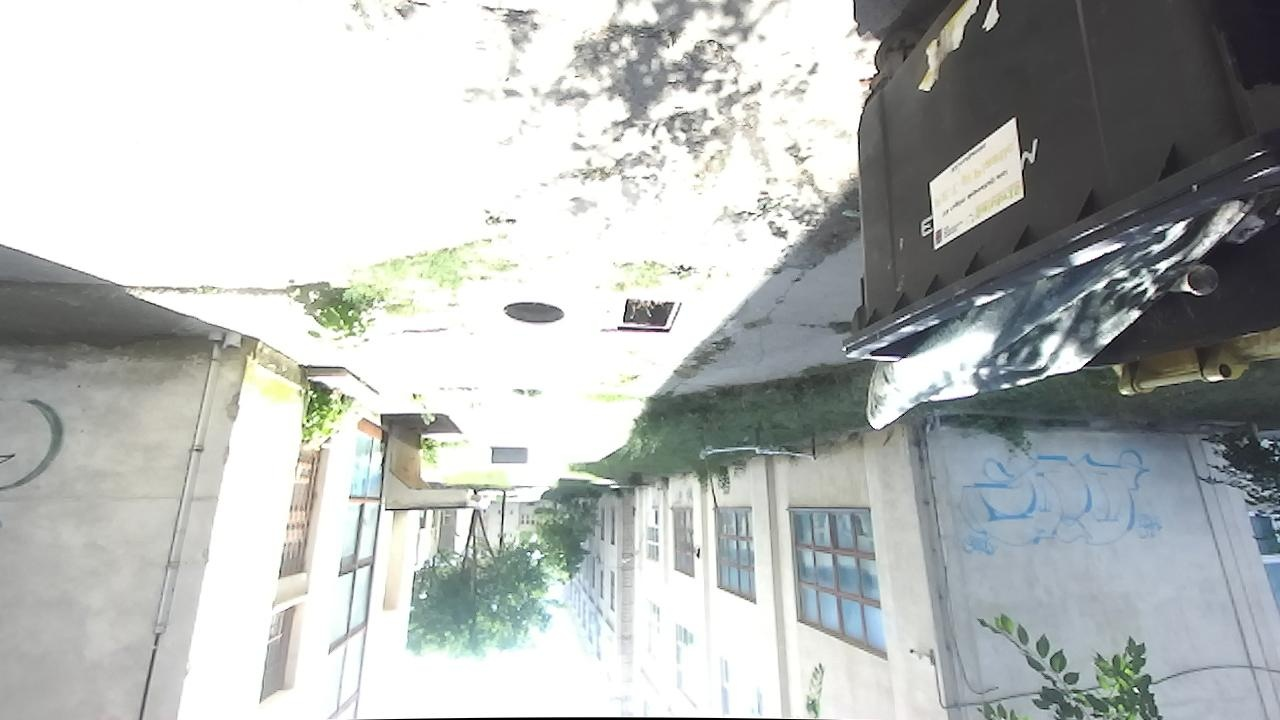drain: (616, 297, 684, 335), (500, 297, 565, 331)
